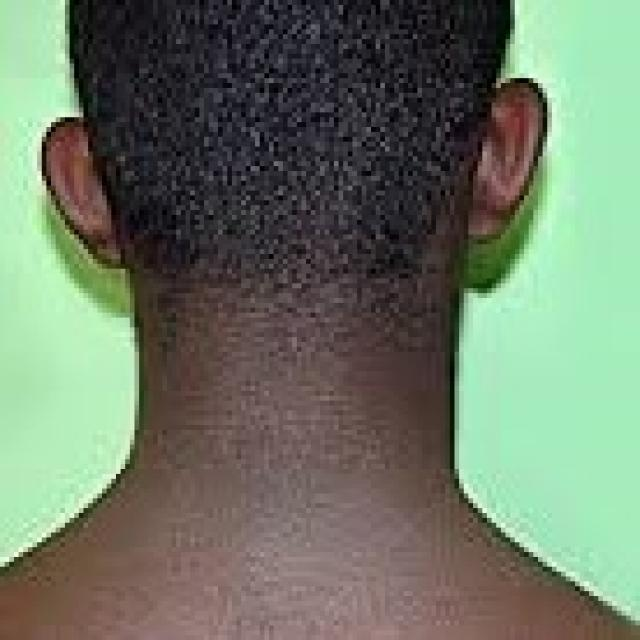Acanthosis Nigricans: (119, 349, 473, 550)
